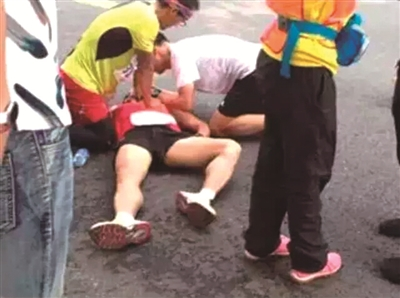fall: (84, 69, 242, 256)
